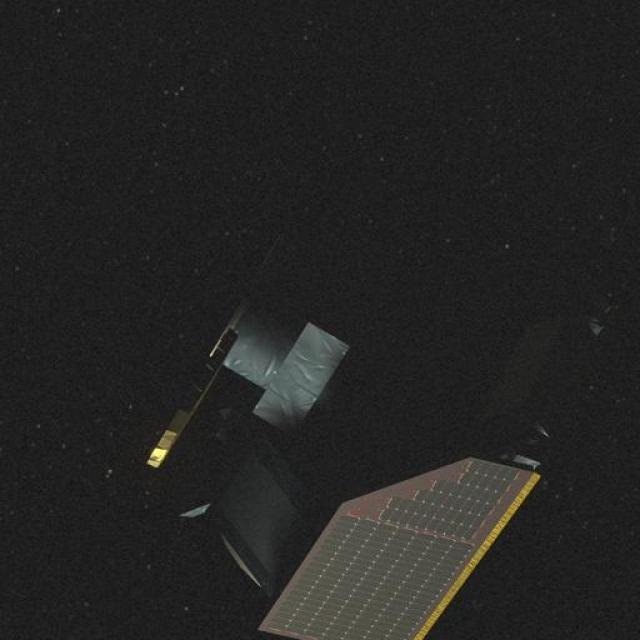cheops: (149, 253, 558, 640)
